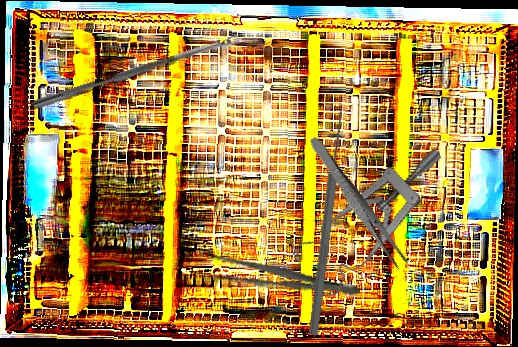Dressing Forceps: (304, 134, 411, 272), (190, 249, 363, 305)
Pusher: (306, 110, 349, 336)
Speculum: (275, 146, 474, 304)
Surgical Spoon: (29, 34, 241, 112)
